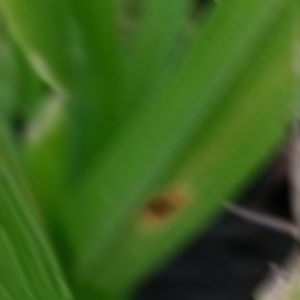Bacterial_Leaf_Blight: (140, 192, 186, 221)
